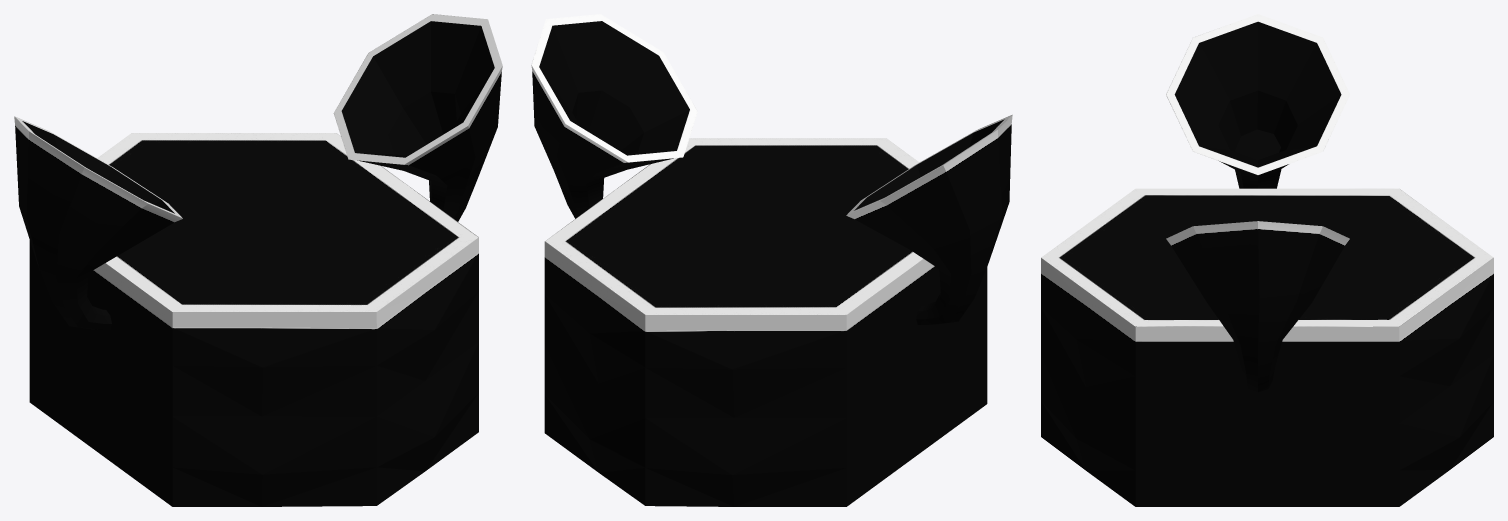
Rendered from LaserTower2.fbx.
3 views of the same model, side by side, from view 1: azimuth 30°, elevation 25°; view 2: azimuth 150°, elevation 25°; view 3: azimuth 270°, elevation 25° (orthographic). The views are drawn at different scales.
Parts seen in each view (by area): view 1: hexBase, hexTop, hexTop2; view 2: hexBase, hexTop, hexTop2; view 3: hexBase, hexTop2, hexTop.
Part boxes in pixels (x1=…): hexBase: x1=29, y1=133, x2=478, y2=506; hexTop: x1=333, y1=14, x2=502, y2=221; hexTop2: x1=14, y1=116, x2=182, y2=329; hexBase: x1=544, y1=138, x2=987, y2=506; hexTop: x1=531, y1=14, x2=697, y2=218; hexTop2: x1=846, y1=114, x2=1012, y2=324; hexBase: x1=1041, y1=188, x2=1493, y2=506; hexTop2: x1=1166, y1=14, x2=1349, y2=188; hexTop: x1=1166, y1=221, x2=1349, y2=391.
Bounding box in the file's own units: 2.63 × 1.87 × 2.4.
